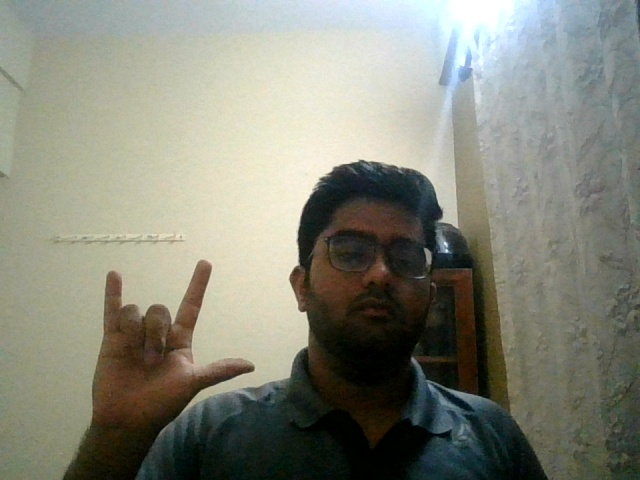I Love You: (72, 250, 261, 440)
